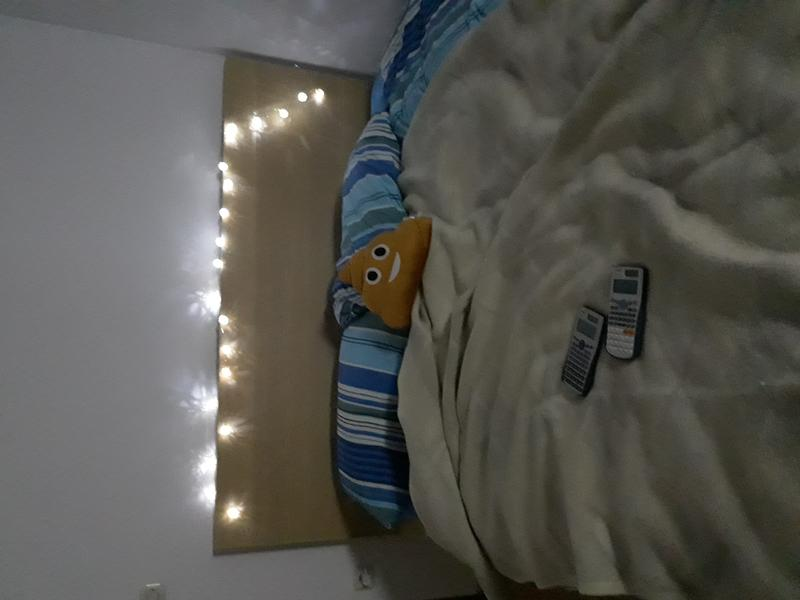CASIO_fx_991ES: (556, 290, 607, 402)
CASIO_fx_991ES_PLUS: (601, 261, 653, 364)
